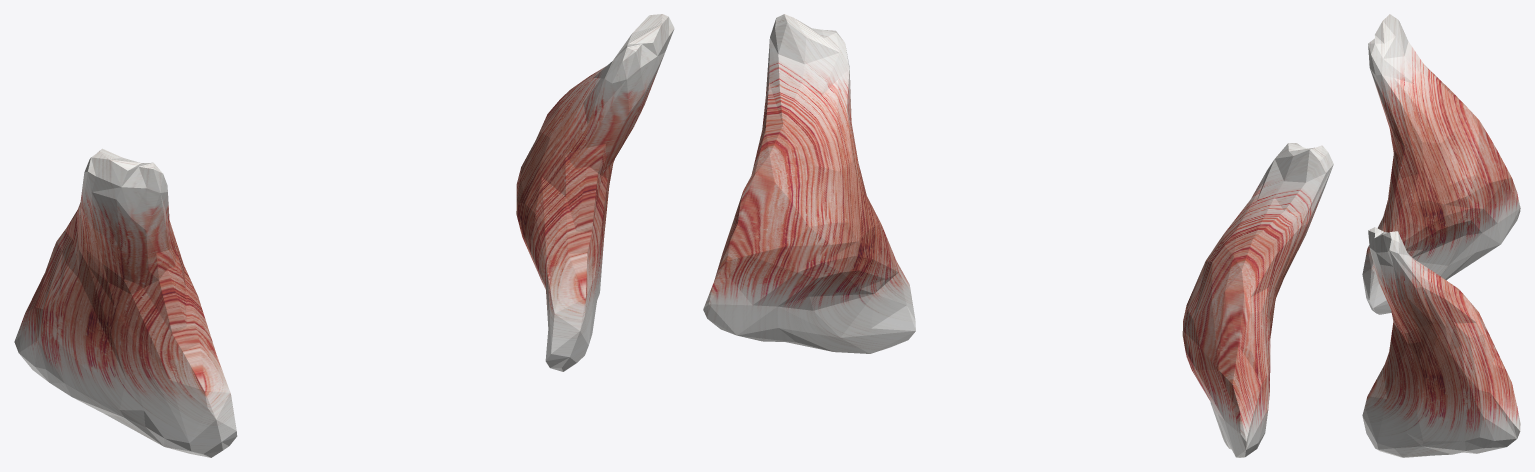
The model's file is Depressor_Anguli_Oris.obj.
3 views of the same model, side by side, from view 1: azimuth 30°, elevation 25°; view 2: azimuth 150°, elevation 25°; view 3: azimuth 270°, elevation 25° (orthographic). The views are drawn at different scales.
Parts seen in each view (by area): view 1: Musculos_Cabeza_1:Depressor_Anguli_Oris1; view 2: Musculos_Cabeza_1:Depressor_Anguli_Oris1; view 3: Musculos_Cabeza_1:Depressor_Anguli_Oris1.
Boxes of the visible parts, box(x1,y1,x2,y2) form: Musculos_Cabeza_1:Depressor_Anguli_Oris1: box(14, 14, 674, 457); Musculos_Cabeza_1:Depressor_Anguli_Oris1: box(703, 14, 1333, 457); Musculos_Cabeza_1:Depressor_Anguli_Oris1: box(1362, 14, 1520, 457).
Bounding box in the file's own units: 0.2788 × 0.1491 × 0.082.
Materials: 1 (1 with a texture image).
